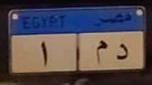1: (40, 39, 51, 68)
daal: (114, 39, 130, 64)
meem: (95, 40, 109, 66)
